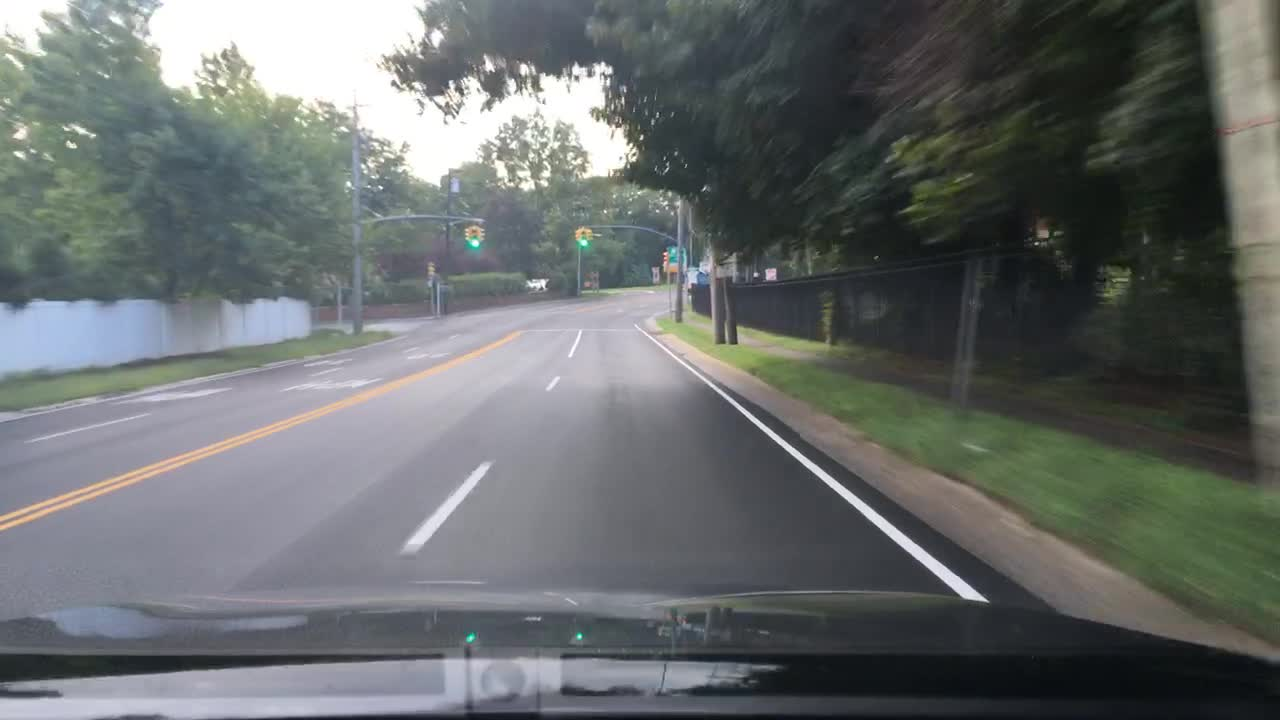traffic light: (466, 225, 481, 249), (424, 259, 437, 284), (576, 227, 589, 249), (460, 224, 469, 248), (479, 226, 489, 245), (658, 248, 667, 269)
traffic sign: (666, 258, 688, 271), (664, 243, 685, 256), (763, 264, 777, 280), (449, 174, 459, 193)
